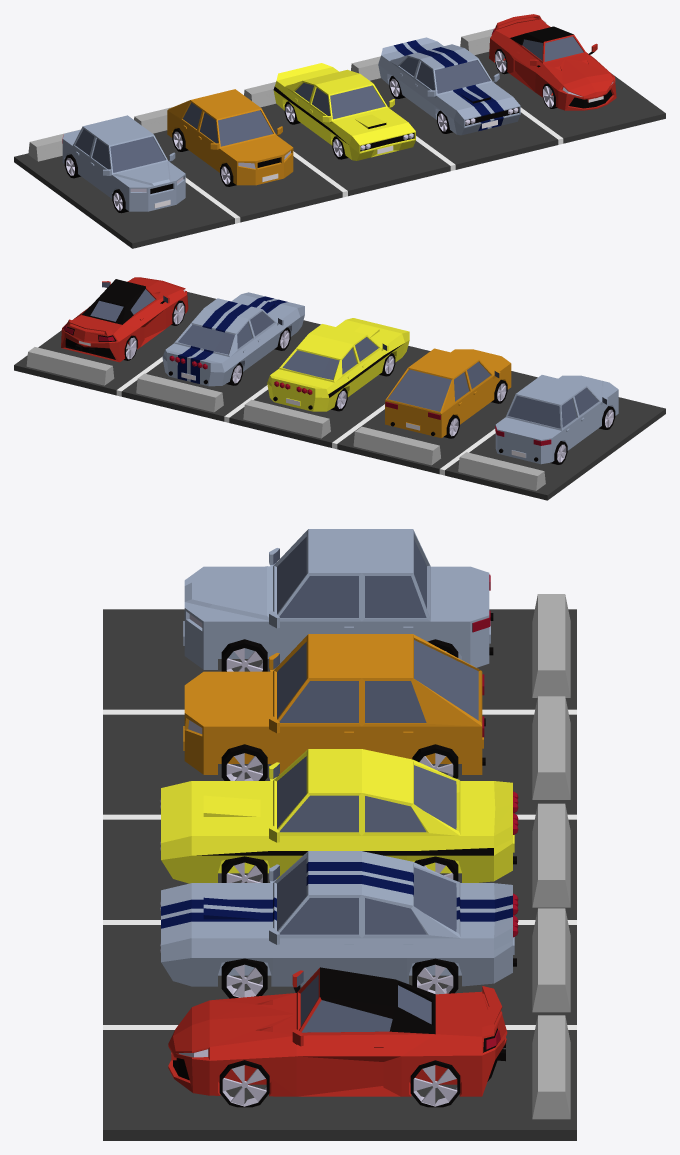
Rendered from HomeView.glb.
3 views of the same model, one above another, from view 1: azimuth 30°, elevation 25°; view 2: azimuth 150°, elevation 25°; view 3: azimuth 270°, elevation 25° (orthographic). The views are drawn at different scales.
Parts seen in each view (by area): view 1: Muscle 2, Muscle, Hatchback, Sedan, Sports, Cube, Cube.004, Cube.002, Cube.006, Cube.008, Cube.009, Cube.010 (+3 smaller); view 2: Muscle, Muscle 2, Hatchback, Sedan, Sports, Cube, Cube.002, Cube.004, Cube.008, Cube.006, Cube.013, Cube.009 (+3 smaller); view 3: Muscle 2, Muscle, Sports, Hatchback, Sedan, Cube.008, Cube, Cube.002, Cube.006, Cube.004, Cube.012, Cube.013 (+11 smaller).
Boxes of the visible parts, box(x1,y1,x2,y2) form: Muscle 2: box(378, 37, 520, 135); Muscle: box(273, 63, 415, 160); Hatchback: box(167, 89, 293, 185); Sedan: box(62, 115, 185, 211); Sports: box(489, 14, 616, 110); Cube: box(14, 153, 234, 248); Cube.004: box(260, 103, 450, 196); Cube.002: box(153, 130, 342, 222); Cube.006: box(370, 78, 558, 169); Cube.008: box(475, 52, 665, 143); Cube.009: box(28, 129, 80, 161); Cube.010: box(134, 107, 172, 133); Muscle: box(267, 318, 409, 411); Muscle 2: box(162, 292, 304, 386); Hatchback: box(385, 348, 511, 438); Sedan: box(495, 375, 618, 464); Sports: box(61, 277, 188, 362); Cube: box(445, 397, 665, 500); Cube.002: box(337, 371, 537, 474); Cube.004: box(229, 346, 430, 447); Cube.008: box(14, 278, 215, 395); Cube.006: box(121, 320, 320, 421); Cube.013: box(26, 347, 114, 385); Cube.009: box(458, 452, 545, 490); Muscle 2: box(160, 851, 518, 986); Muscle: box(160, 749, 518, 883); Sports: box(168, 967, 507, 1096); Hatchback: box(183, 634, 485, 774); Sedan: box(183, 529, 493, 669); Cube.008: box(103, 1030, 576, 1140); Cube: box(103, 609, 576, 709); Cube.002: box(103, 714, 576, 814); Cube.006: box(103, 925, 576, 1024); Cube.004: box(103, 819, 576, 919); Cube.012: box(532, 908, 570, 1012); Cube.013: box(532, 1015, 570, 1119).
Bounding box in the file's own units: 2080 × 220 × 800.
